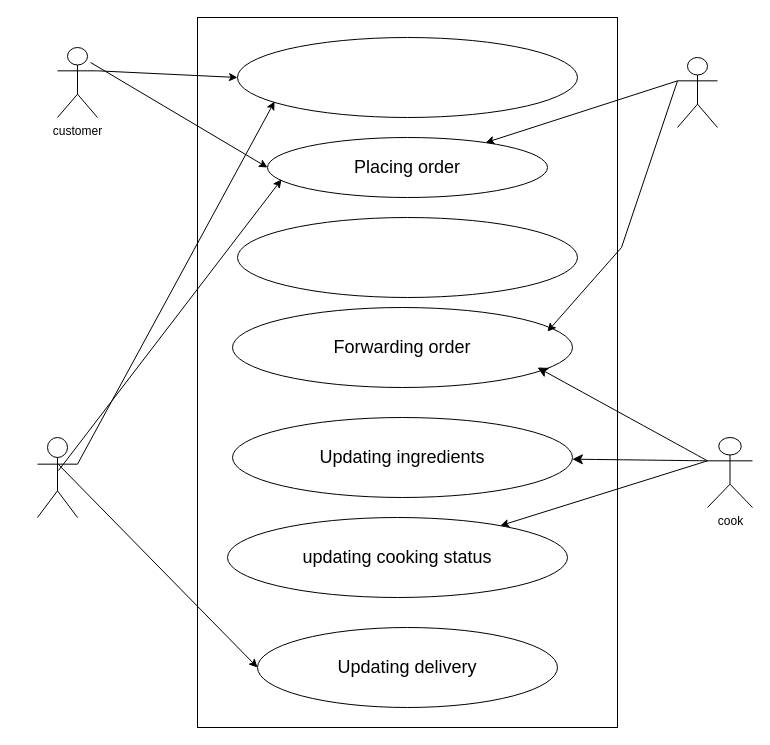
The diagram is 770 pixels wide and 745 high, and some of its shapes have lost their labels. The centre of each missing label's shape, as x and y in pixels:
delivery person: (57,477)
employee: (697,92)
Registering customer information: (407,77)
Validating order / ingredients: (407,257)
